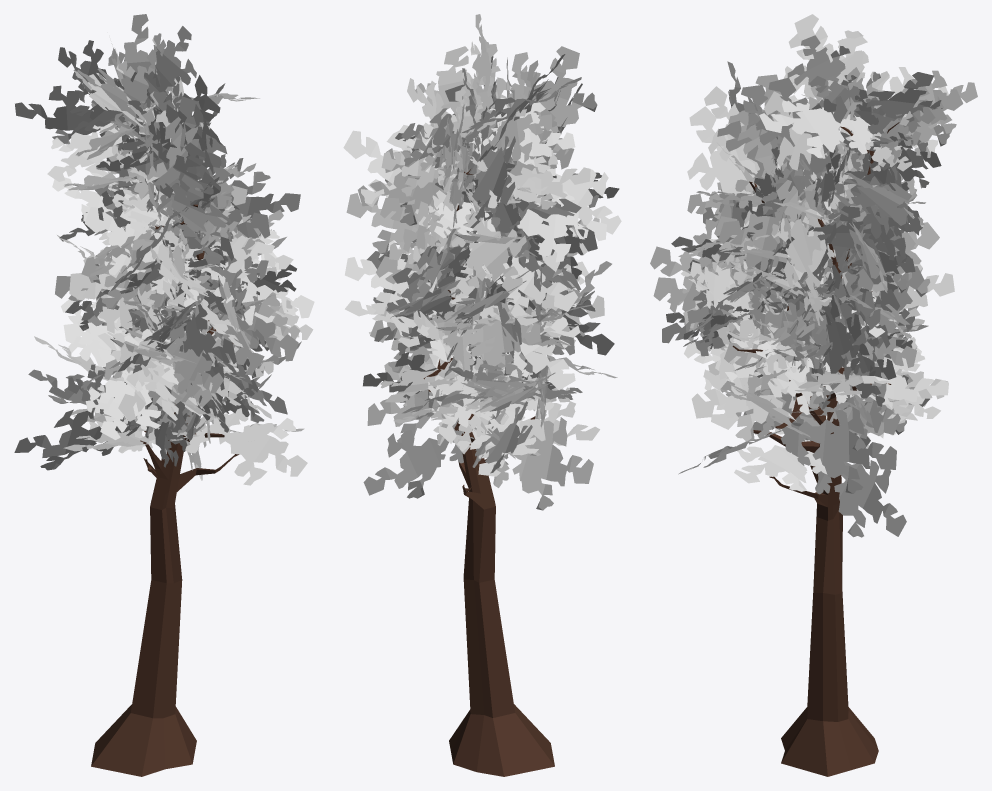
File: Tree 3.fbx
The picture shows the model from 3 angles, left to right: view 1: azimuth 30°, elevation 25°; view 2: azimuth 150°, elevation 25°; view 3: azimuth 270°, elevation 25°; orthographic projection.
Visible parts, largest first — view 1: Branches, Trunk; view 2: Branches, Trunk; view 3: Branches, Trunk.
Boxes of the visible parts, bbox=[...] form: Branches: bbox=[14, 14, 314, 485]; Trunk: bbox=[91, 204, 239, 776]; Branches: bbox=[343, 14, 621, 510]; Trunk: bbox=[423, 169, 554, 776]; Branches: bbox=[650, 14, 977, 537]; Trunk: bbox=[732, 122, 899, 776].
Size of the model in its own units: 703 by 1934 by 786.
